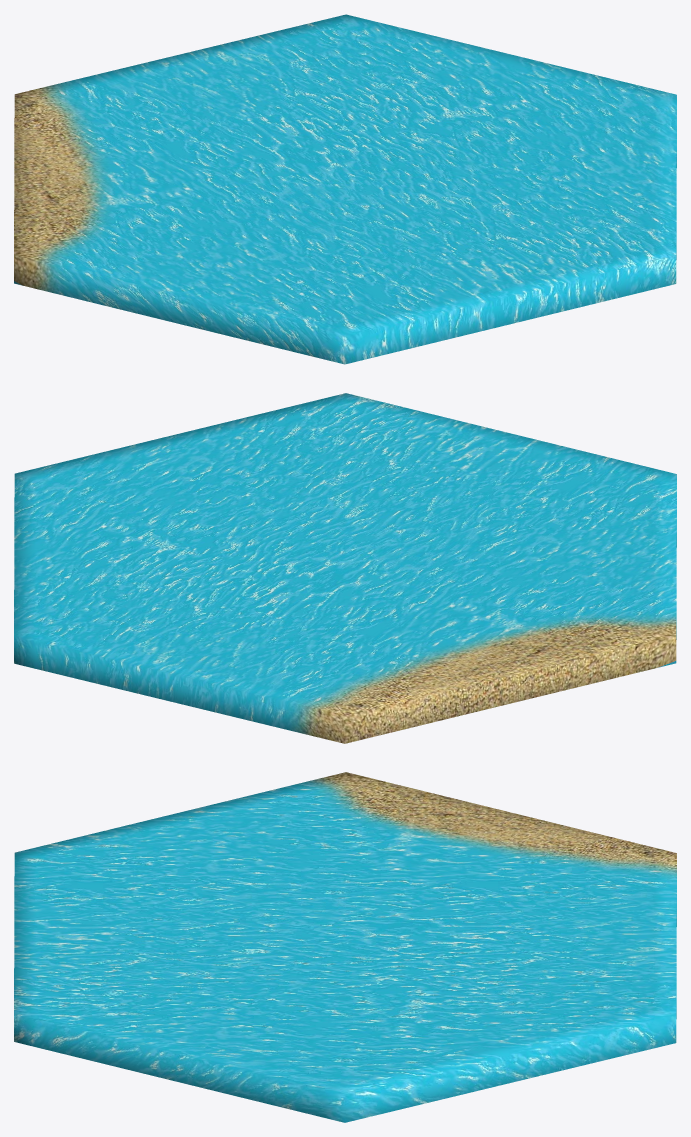
Rendered from bluehex2.fbx.
3 views of the same model, one above another, from view 1: azimuth 30°, elevation 25°; view 2: azimuth 150°, elevation 25°; view 3: azimuth 270°, elevation 25° (orthographic).
Parts seen in each view (by area): view 1: Hexa; view 2: Hexa; view 3: Hexa.
Boxes of the visible parts, bbox=[...] form: Hexa: bbox=[14, 14, 676, 364]; Hexa: bbox=[14, 393, 676, 743]; Hexa: bbox=[14, 772, 676, 1122].
Bounding box in the file's own units: 24.41 × 0.9964 × 21.15.
Materials: 1 (1 with a texture image).
